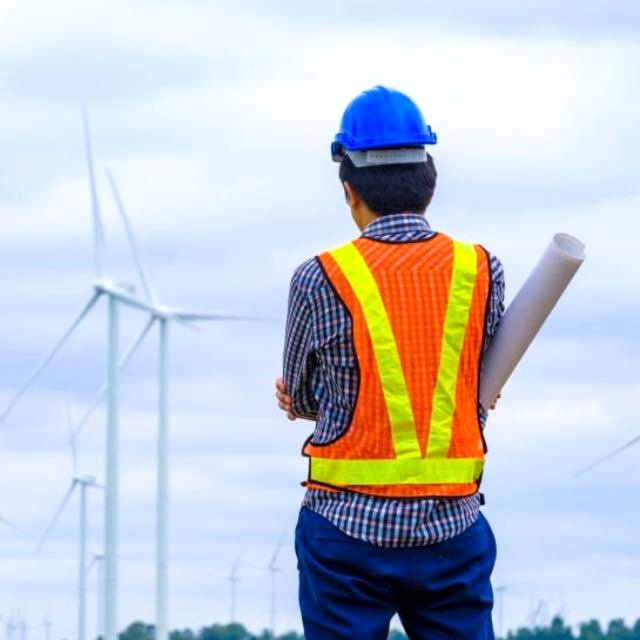Con_Casco: (328, 83, 441, 225)
Con_Chaleco: (304, 235, 495, 499)
